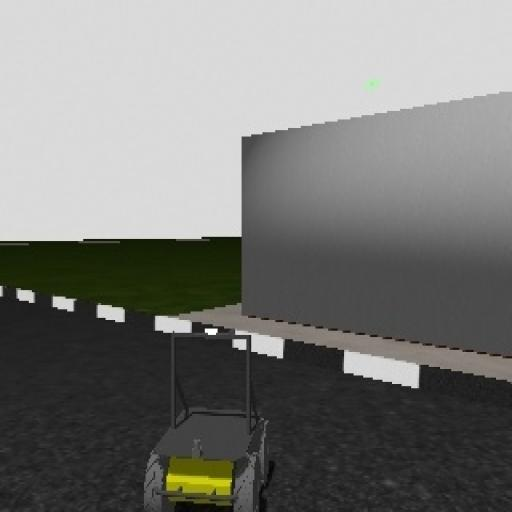huskya200: (151, 321, 270, 512)
